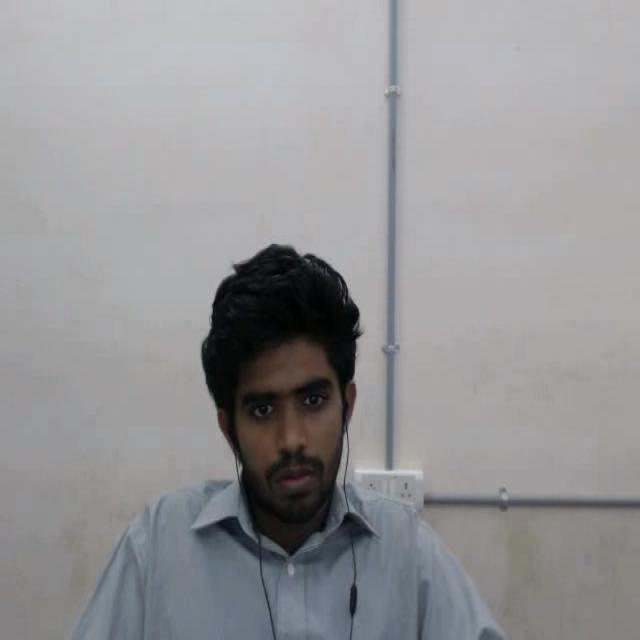Engaged: (189, 227, 390, 538)
